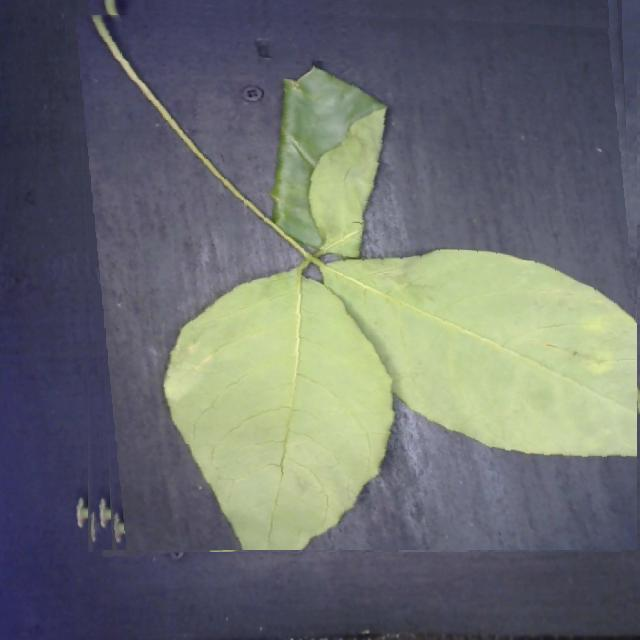biodegradable: (71, 0, 637, 550)
